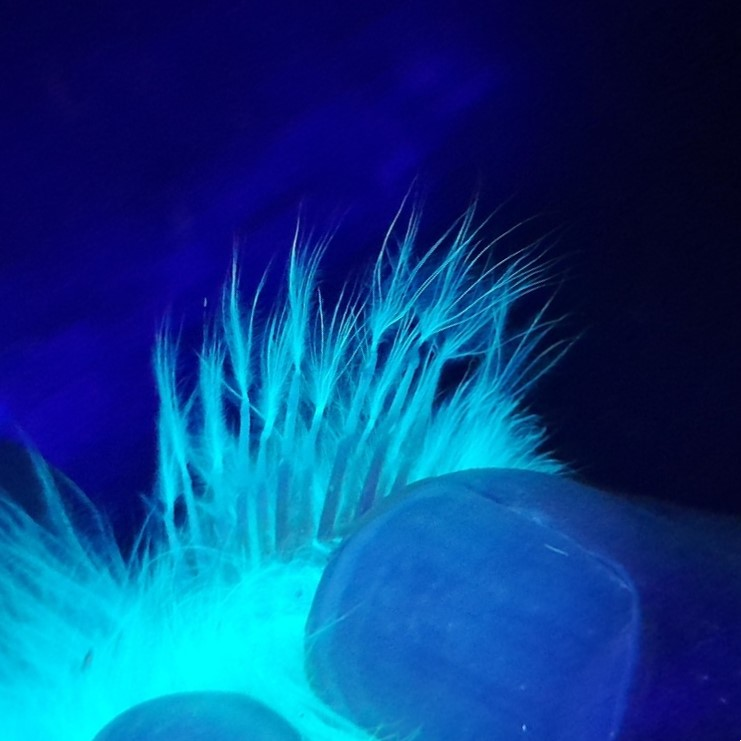male: (149, 316, 457, 590)
